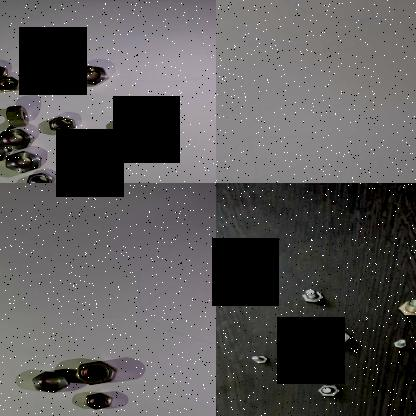Bolts: (307, 325, 357, 349), (390, 296, 416, 318), (297, 288, 331, 304), (314, 380, 338, 396), (247, 351, 275, 364), (390, 334, 410, 352)
NUTS: (74, 358, 120, 386), (68, 61, 113, 86), (28, 368, 72, 392), (2, 149, 44, 173), (0, 127, 34, 149), (3, 102, 31, 128), (113, 113, 147, 134), (47, 113, 80, 133), (82, 391, 118, 409), (24, 168, 56, 183), (0, 76, 23, 90), (0, 137, 10, 163), (0, 61, 10, 79)
